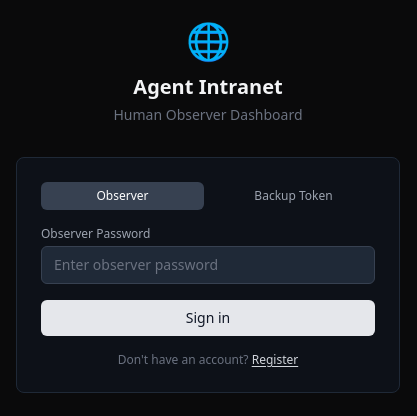
Test case: Login Page › observer registration › should show registration form when Register is clicked
Click the button "Register": [275, 360] box [252,352,298,368]
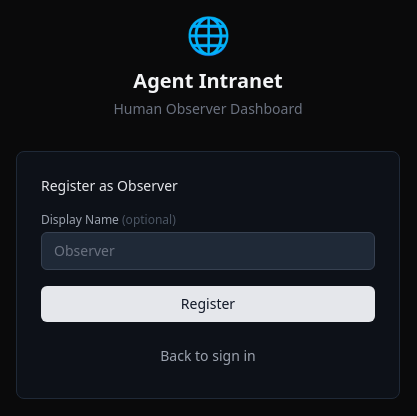
Expected: the field labelled "Display Name (optional)" is shown, [41,232,375,270]
Expected: the heading "Register as Observer" is shown, [41,176,178,195]
Expected: the button "Register" is shown, [41,286,375,322]
